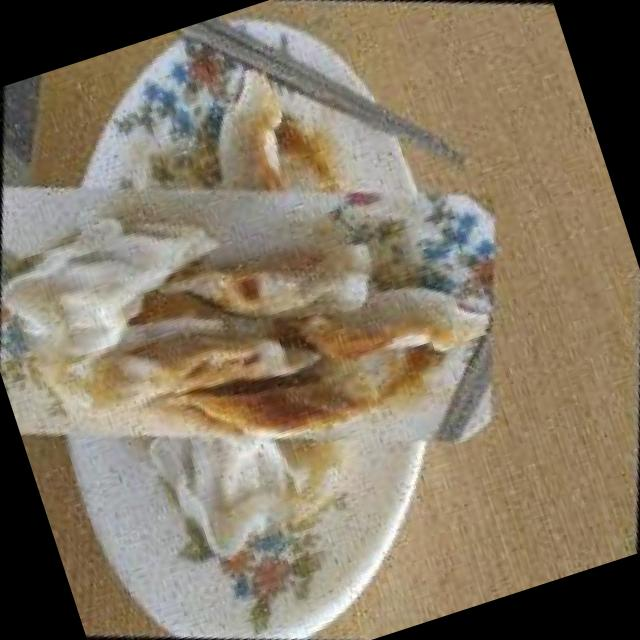fried_dumplings: (0, 16, 541, 611)
